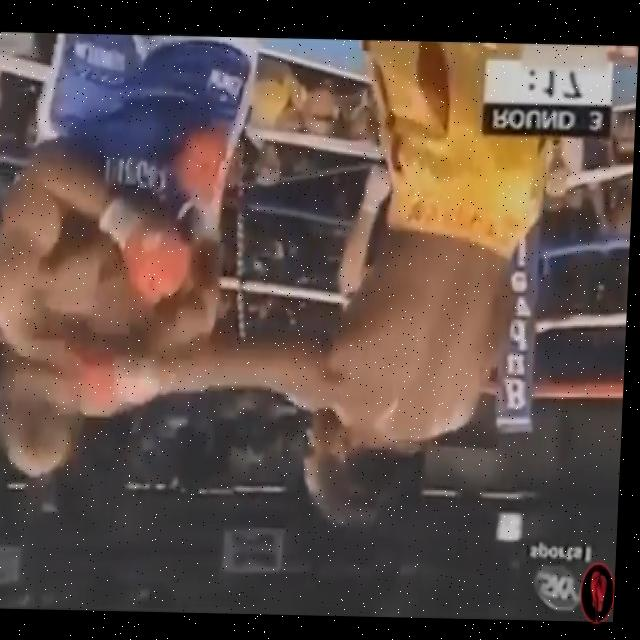Jab: (69, 196, 467, 446)
